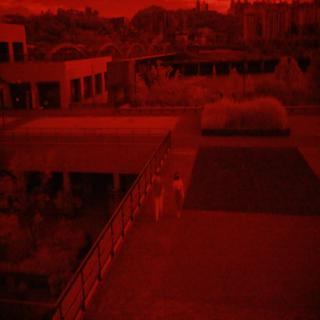person: (143, 166, 167, 229), (169, 171, 190, 222)
